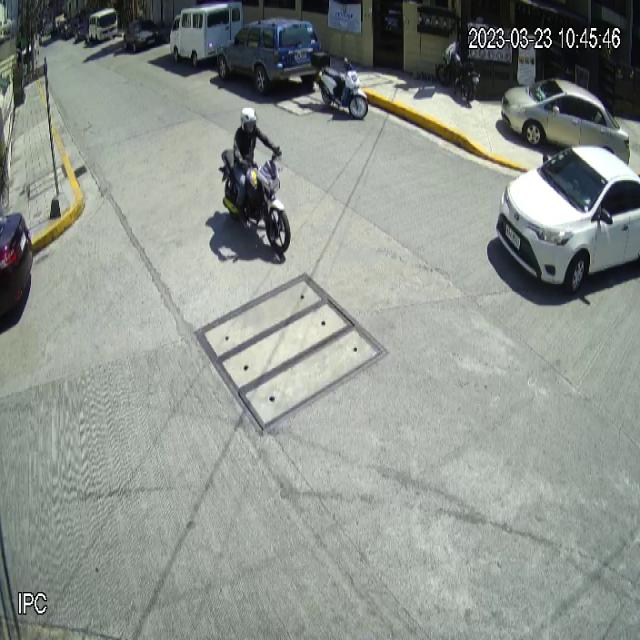Car: (495, 145, 640, 292), (501, 78, 630, 171), (216, 16, 323, 96)
Motorcycle: (218, 144, 291, 265), (312, 54, 368, 120)
Van: (169, 0, 242, 69)
